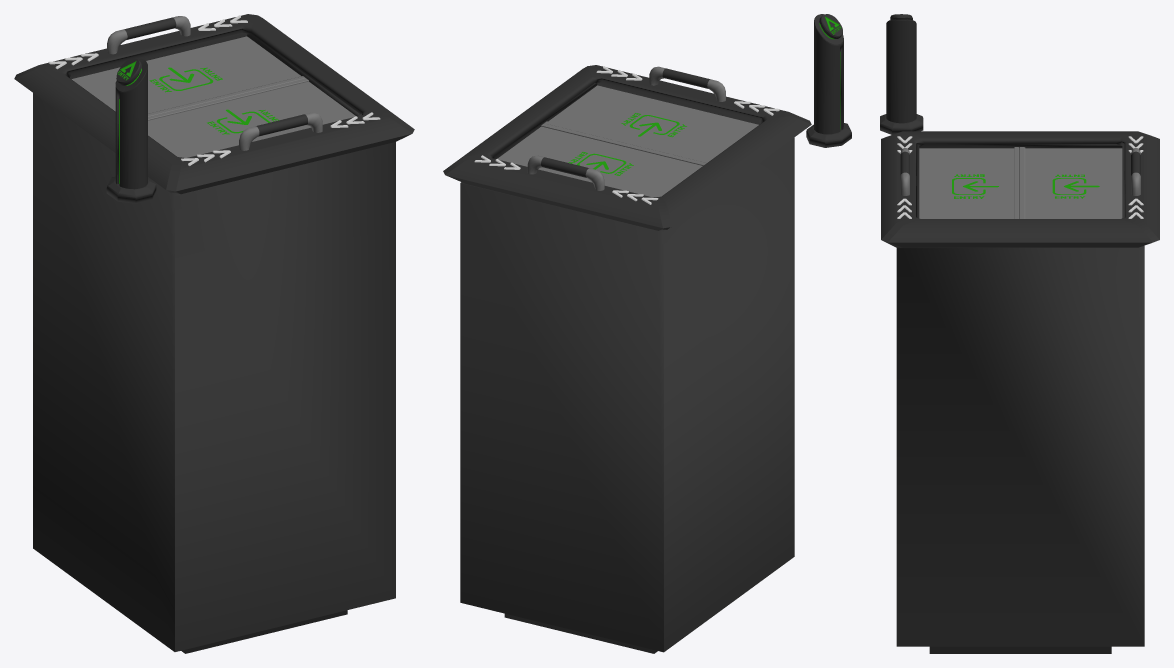
3 views of the same model, side by side, from view 1: azimuth 30°, elevation 25°; view 2: azimuth 150°, elevation 25°; view 3: azimuth 270°, elevation 25° (orthographic). The views are drawn at different scales.
Parts seen in each view (by area): view 1: elevator_entry; view 2: elevator_entry; view 3: elevator_entry.
Part boxes in pixels (<box>): elevator_entry: <box>14,14,414,653</box>; elevator_entry: <box>443,14,851,653</box>; elevator_entry: <box>880,14,1159,653</box>.
Size of the model in its own units: 1.77 by 3.57 by 1.66.
3 materials, 2 textured.
